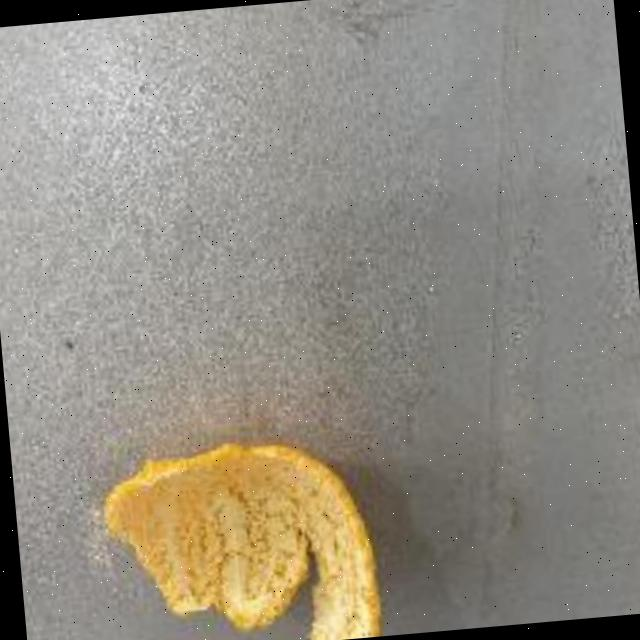orange-peel: (94, 427, 386, 640)
